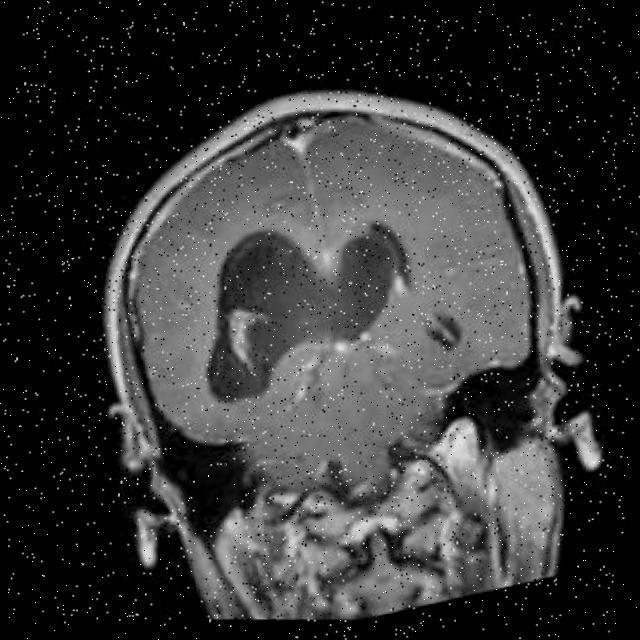LMCI: (149, 249, 315, 446), (339, 224, 444, 313)
